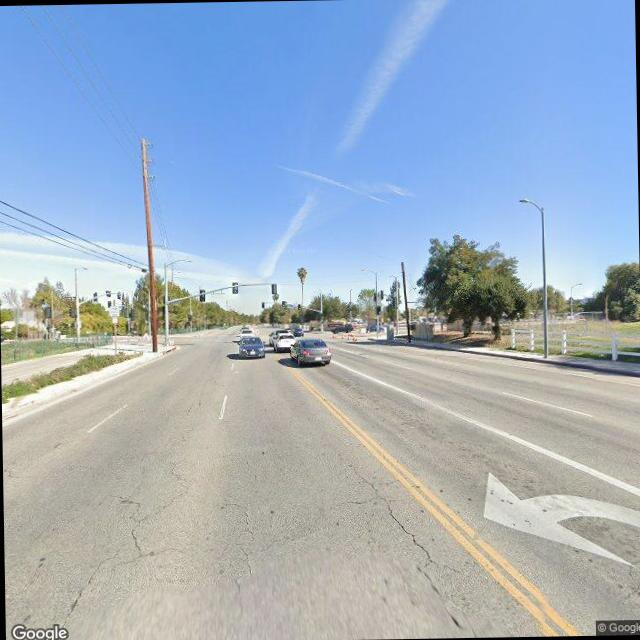crack: (65, 461, 200, 608)
pothole: (340, 458, 456, 574), (232, 499, 256, 574)
